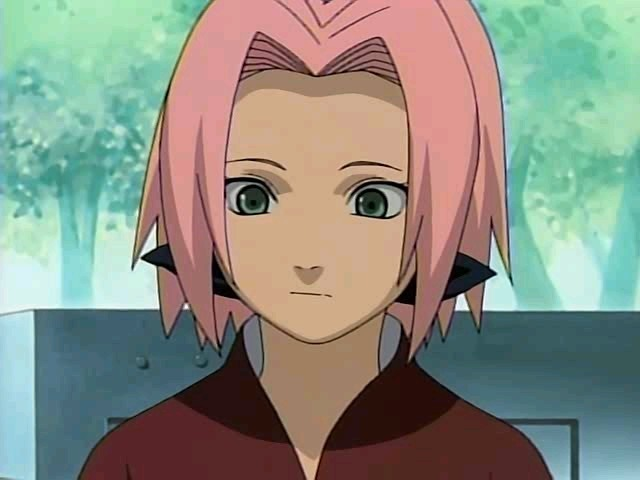sakura: (165, 3, 469, 348)
